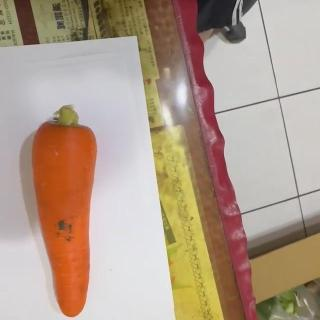carrot: (26, 103, 100, 320)
